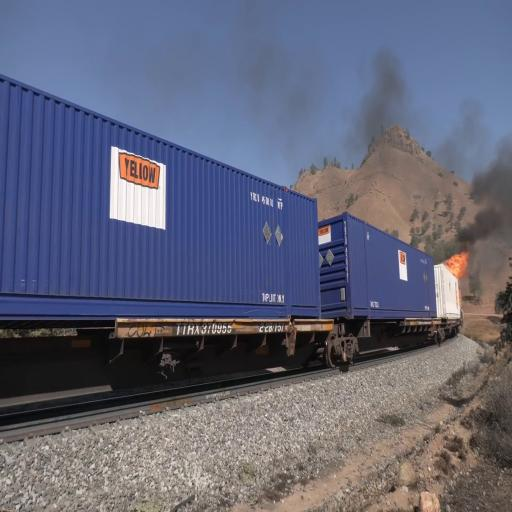fire: (482, 154, 512, 242), (445, 244, 470, 286)
